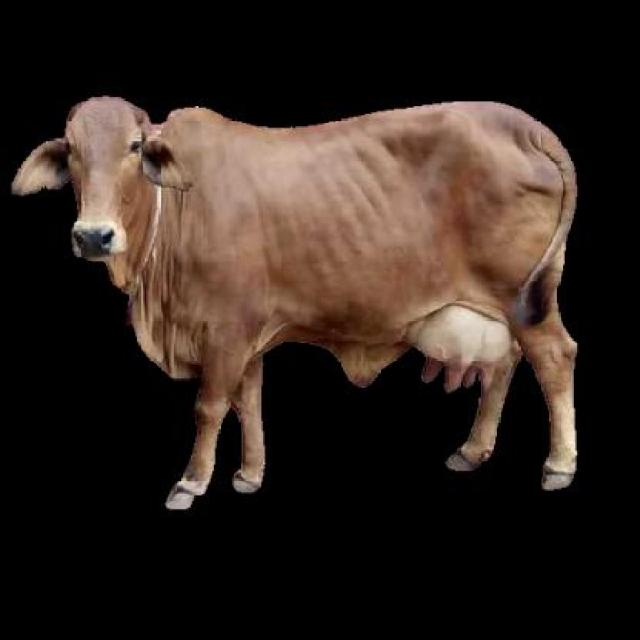Cow: (12, 97, 578, 509)
